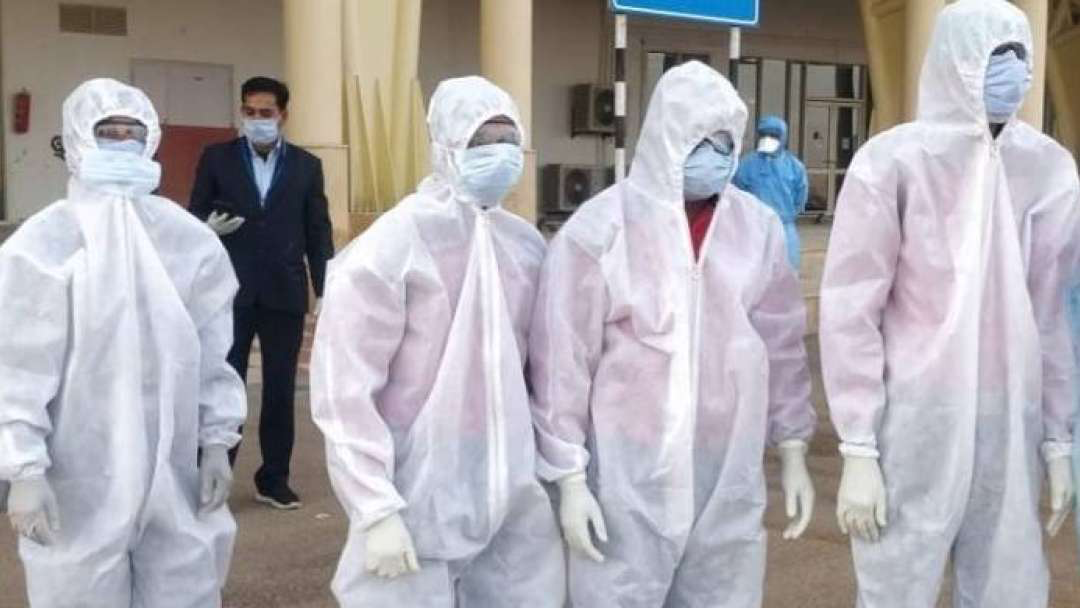Coverall: (529, 60, 819, 607), (822, 1, 1077, 605), (1, 75, 247, 605), (311, 75, 547, 605)
Gloves: (835, 458, 891, 542), (556, 481, 609, 561), (776, 448, 818, 541), (6, 480, 61, 549), (360, 519, 422, 579), (1043, 458, 1078, 539), (197, 445, 236, 516)
Goggles: (91, 118, 152, 144), (470, 122, 523, 144)
Mask: (81, 140, 164, 197), (463, 145, 524, 202), (986, 55, 1034, 124), (685, 147, 733, 198), (242, 117, 277, 141), (760, 136, 777, 154)
